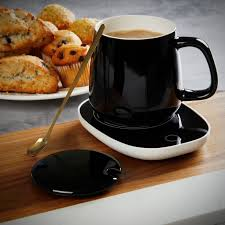mug: (70, 17, 214, 146)
